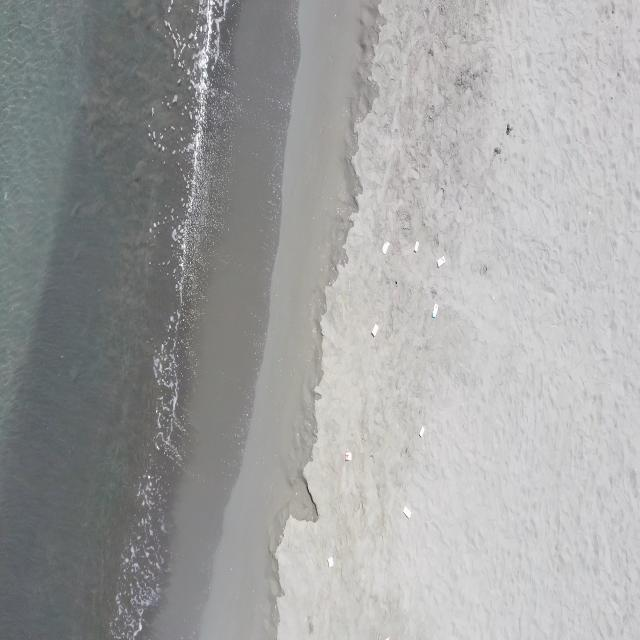Garbage: (436, 256, 444, 267), (344, 449, 352, 460), (403, 506, 411, 517), (382, 240, 388, 253), (432, 303, 437, 318), (413, 240, 419, 252), (417, 426, 424, 436), (371, 324, 377, 335), (327, 555, 332, 567)
